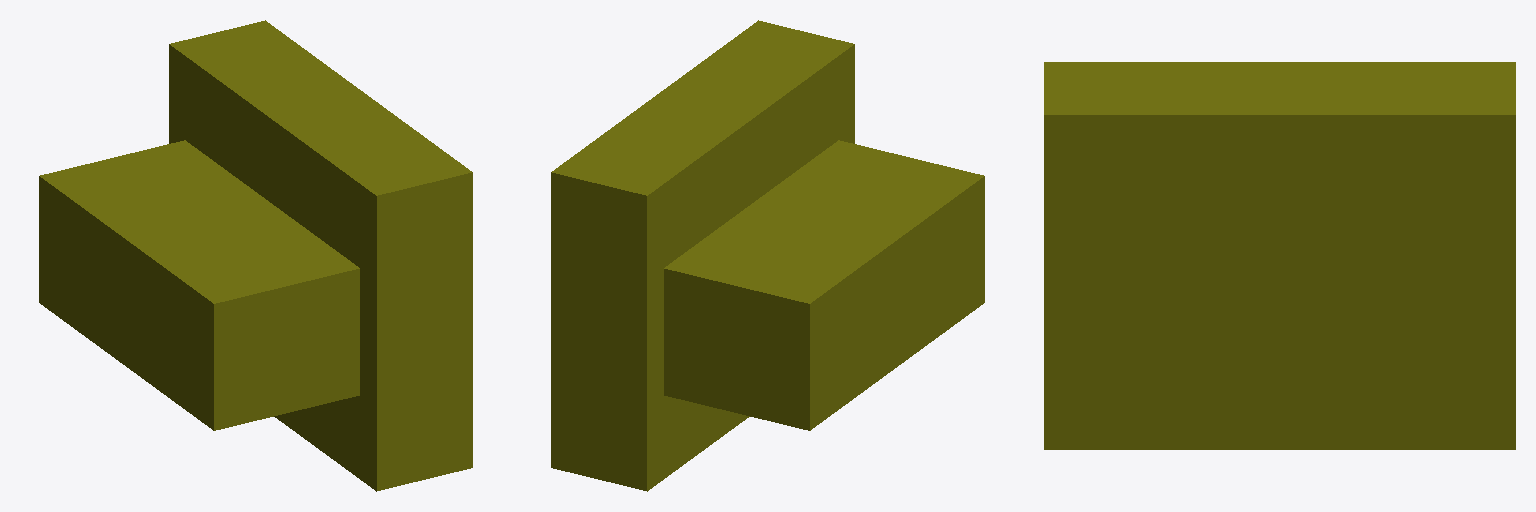
The robot description file, URDF, robot "block":
<robot name="block">
  
  <link name="block1">
    <visual>
      <origin xyz="0.0 0.0 0.0" rpy="0 0 0"/>
      <geometry>
        <box size="0.03471936650372215 0.07204171948014355 0.028826302452968848"/>
      </geometry>
      <material name="dark_yellow">
        <color rgba="0.5 0.5 0.1 1"/>
      </material>
    </visual> 
    <collision>
      <origin xyz="0.0 0.0 0.0" rpy="0 0 0"/>
      <geometry>
        <box size="0.03471936650372215 0.07204171948014355 0.028826302452968848"/>
      </geometry>
    </collision>
    <inertial>
      <mass value="0.7186415971413894"/>
      <inertia ixx="0.00036057632884699216" ixy="0" ixz="0" iyy="0.00012195288756470184" iyz="0" izz="0.000383002659607834"/>
    </inertial>
  </link>

  <link name="block2">
    <visual>
      <origin xyz="0.0 0.0 0.0" rpy="0 0 0"/>
      <geometry>
        <box size="0.0114564459843974 0.08535532075344031 0.06707991650989639"/>
      </geometry>
      <material name="dark_yellow">
        <color rgba="0.5 0.5 0.1 1"/>
      </material>
    </visual> 
    <collision>
      <origin xyz="0.0 0.0 0.0" rpy="0 0 0"/>
      <geometry>
        <box size="0.0114564459843974 0.08535532075344031 0.06707991650989639"/>
      </geometry>
    </collision>
    <inertial>
      <mass value="0.7186415971413894"/>
      <inertia ixx="0.0007057806661414641" ixy="0" ixz="0" iyy="0.00027733369483288404" iyz="0" izz="0.0004441672747622578"/>
    </inertial>
  </link>

  <link name="block3">
    <visual>
      <origin xyz="0.0 0.0 0.0" rpy="0 0 0"/>
      <geometry>
        <box size="0.0114564459843974 0.08535532075344031 0.06707991650989639"/>
      </geometry>
      <material name="dark_yellow">
        <color rgba="0.5 0.5 0.1 1"/>
      </material>
    </visual> 
    <collision>
      <origin xyz="0.0 0.0 0.0" rpy="0 0 0"/>
      <geometry>
        <box size="0.0114564459843974 0.08535532075344031 0.06707991650989639"/>
      </geometry>
    </collision>
    <inertial>
      <mass value="0.7186415971413894"/>
      <inertia ixx="0.0007057806661414641" ixy="0" ixz="0" iyy="0.00027733369483288404" iyz="0" izz="0.0004441672747622578"/>
    </inertial>
  </link>

  <joint name="block_link1" type="fixed">
    <parent link="block1"/>
    <child link="block2"/>
    <origin xyz="0.023087906244059774 0.0 0.0"/>
  </joint>

  <joint name="block_link2" type="fixed">
    <parent link="block2"/>
    <child link="block3"/>
    <origin xyz="0.0114564459843974 0.0 0.0"/>
  </joint>

</robot>

--- Facts derived from the render (not from the file) ---
3 views of the same robot in one strip: view 1: azimuth 30°, elevation 25°; view 2: azimuth 150°, elevation 25°; view 3: azimuth 270°, elevation 25° (orthographic).
Robot: block — 3 links, 2 joints (2 fixed); root link block1; default pose: every joint at zero.
Visible links, largest first — view 1: block1, block2, block3; view 2: block1, block2, block3; view 3: block3, block2.
Boxes of the visible links, box(x1,y1,x2,y2) form: block1: box(39, 140, 359, 430); block2: box(169, 32, 424, 491); block3: box(218, 20, 472, 479); block1: box(664, 140, 984, 430); block2: box(599, 32, 854, 491); block3: box(551, 20, 805, 479); block3: box(1044, 88, 1515, 449); block2: box(1044, 62, 1515, 87).
Size in the robot's own frame: 0.0576 by 0.0854 by 0.0671 metres.
Geometry: primitives only (box / cylinder / sphere), no mesh files.